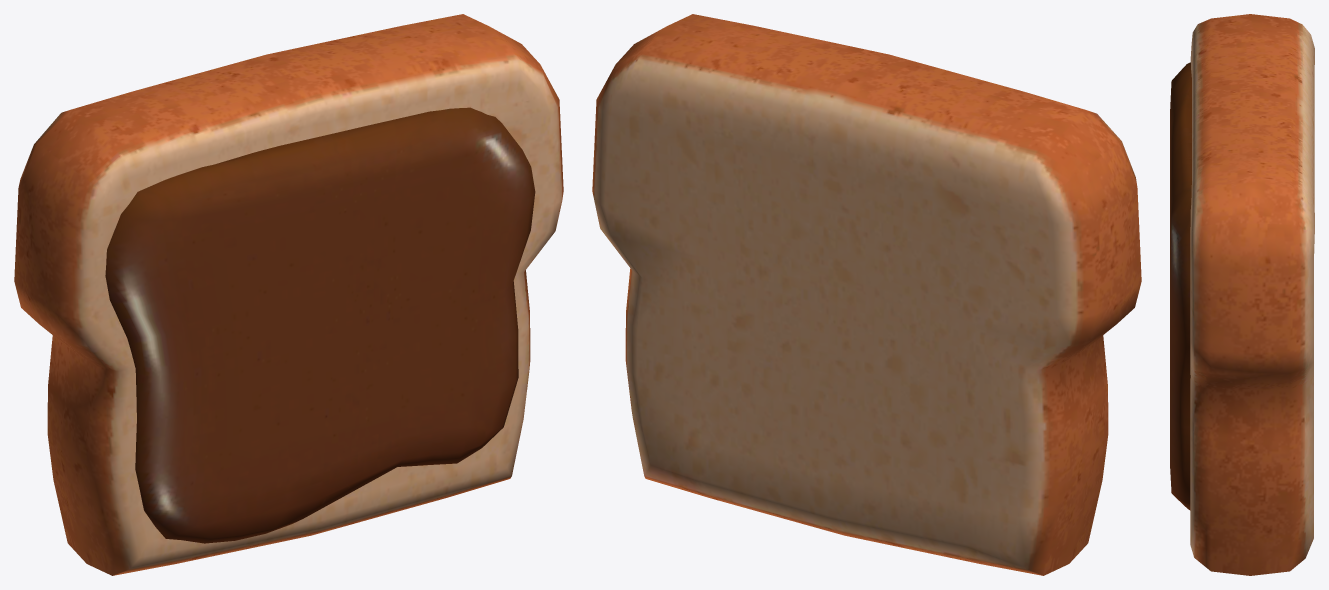
File: 0-bread_brown.fbx
The picture shows the model from 3 angles, left to right: view 1: azimuth 30°, elevation 25°; view 2: azimuth 150°, elevation 25°; view 3: azimuth 270°, elevation 25°; orthographic projection. The views are drawn at different scales.
Visible parts, largest first — view 1: 0-bread_brown; view 2: 0-bread_brown; view 3: 0-bread_brown.
Boxes of the visible parts, <box> form: 0-bread_brown: <box>14,14,563,575</box>; 0-bread_brown: <box>592,14,1141,575</box>; 0-bread_brown: <box>1170,14,1314,575</box>.
Bounding box in the file's own units: 100 × 85.3 × 27.8.
